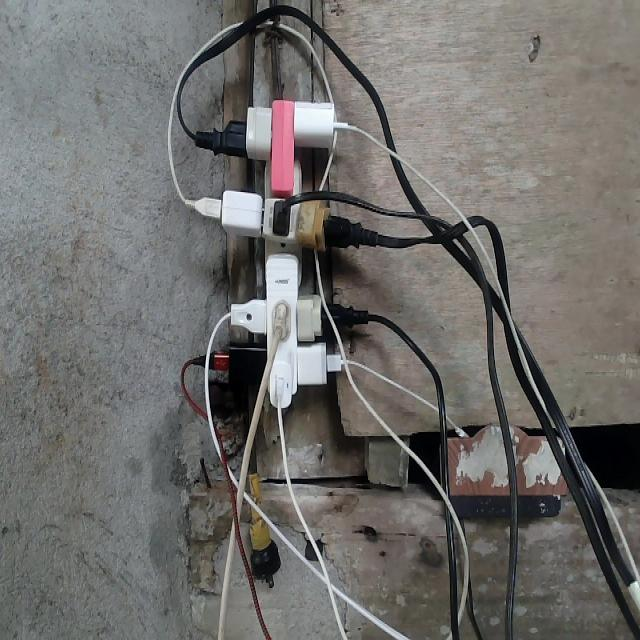-: (195, 94, 367, 410)
